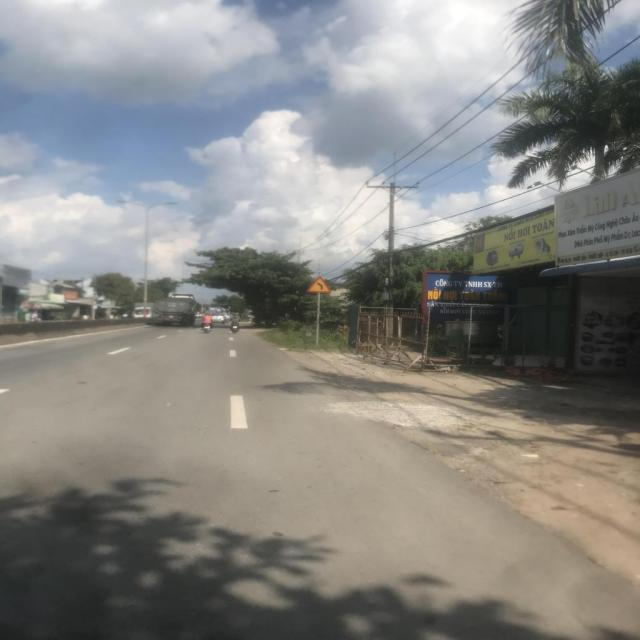cho_ngoat_nguy_hiem_ben_trai: (304, 276, 333, 292)
